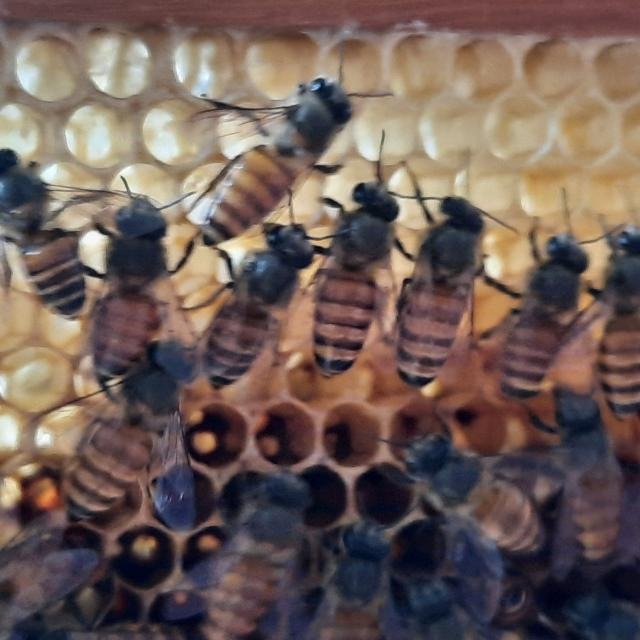honeybee: (178, 72, 344, 237), (57, 342, 196, 522), (393, 434, 552, 582), (80, 186, 186, 378), (188, 490, 308, 640), (195, 217, 304, 381), (0, 143, 97, 326), (548, 383, 640, 575), (287, 510, 391, 640), (0, 507, 101, 640), (403, 197, 473, 385), (320, 169, 381, 374), (507, 226, 571, 412), (592, 223, 640, 420), (392, 567, 491, 640)
